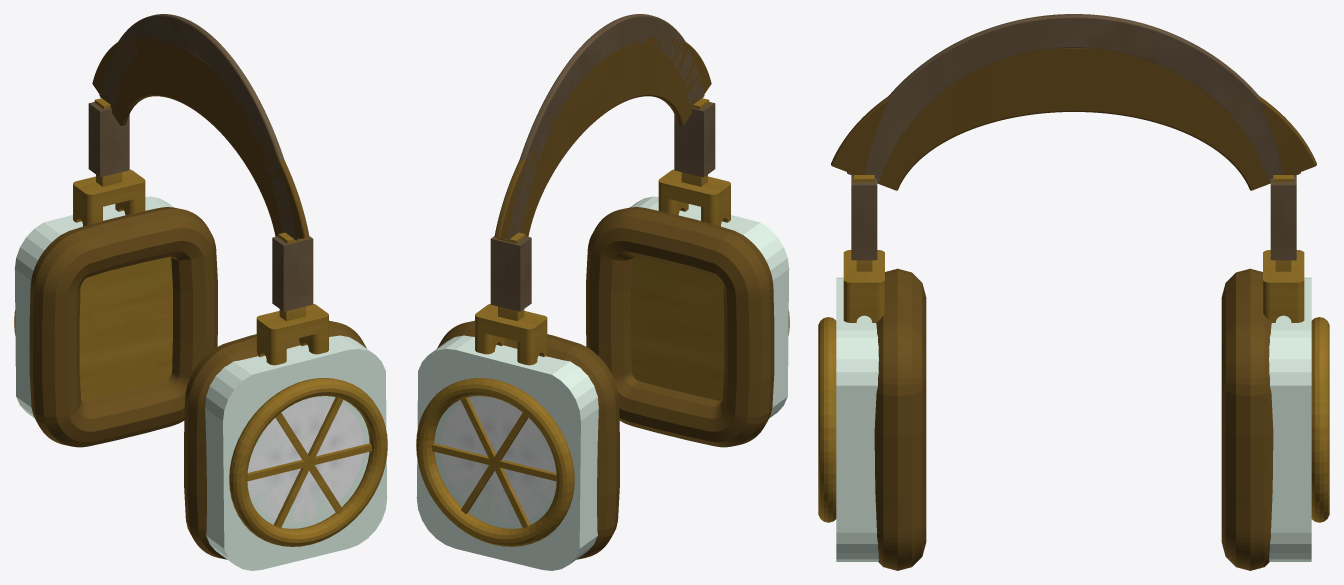
File: Music_Headphone__0377.glb
3 renders of one model, left to right at view 1: azimuth 30°, elevation 25°; view 2: azimuth 150°, elevation 25°; view 3: azimuth 270°, elevation 25°, orthographic. The views are drawn at different scales.
Parts seen in each view (by area): view 1: left_cup::left_cup_pad, right_cup::right_cup_shell, left_cup::left_cup_cap, suspension_strap::strap_body, right_cup::right_cup_ring, right_cup::right_cup_driver, band::arch_frame, right_cup::right_cup_pad, left_cup::left_cup_shell, right_cup::right_cup_bars, right_yoke::right_yoke_body, band::housing_r (+2 smaller); view 2: right_cup::right_cup_pad, left_cup::left_cup_shell, right_cup::right_cup_cap, suspension_strap::strap_body, left_cup::left_cup_ring, left_cup::left_cup_driver, band::arch_frame, left_cup::left_cup_pad, right_cup::right_cup_shell, left_cup::left_cup_bars, left_yoke::left_yoke_body, band::housing_l (+2 smaller); view 3: suspension_strap::strap_body, band::arch_frame, left_cup::left_cup_pad, right_cup::right_cup_pad, right_cup::right_cup_shell, left_cup::left_cup_shell, left_cup::left_cup_ring, right_cup::right_cup_ring, left_yoke::left_yoke_body, right_yoke::right_yoke_body, band::housing_l, band::housing_r.
Boxes of the visible parts, x1,y1,x2,y2 form: left_cup::left_cup_pad: (29,207,217,447); right_cup::right_cup_shell: (205,335,387,570); left_cup::left_cup_cap: (79,256,172,400); suspension_strap::strap_body: (92,36,309,238); right_cup::right_cup_ring: (229,378,387,546); right_cup::right_cup_driver: (247,397,363,522); band::arch_frame: (99,14,302,240); right_cup::right_cup_pad: (184,320,366,559); left_cup::left_cup_shell: (14,196,173,418); right_cup::right_cup_bars: (247,397,371,527); right_yoke::right_yoke_body: (256,304,328,365); band::housing_r: (272,236,313,311); right_cup::right_cup_pad: (586,207,774,447); left_cup::left_cup_shell: (416,335,598,570); right_cup::right_cup_cap: (631,256,724,400); suspension_strap::strap_body: (494,36,711,238); left_cup::left_cup_ring: (416,378,574,546); left_cup::left_cup_driver: (440,397,556,522); band::arch_frame: (501,14,704,240); left_cup::left_cup_pad: (437,320,619,559); right_cup::right_cup_shell: (630,196,789,418); left_cup::left_cup_bars: (432,397,556,527); left_yoke::left_yoke_body: (475,304,547,365); band::housing_l: (490,236,531,311); suspension_strap::strap_body: (831,48,1316,190); band::arch_frame: (847,14,1300,182); left_cup::left_cup_pad: (1221,268,1273,570); right_cup::right_cup_pad: (874,268,926,570); right_cup::right_cup_shell: (836,277,878,561); left_cup::left_cup_shell: (1269,277,1311,561); left_cup::left_cup_ring: (1311,317,1329,522); right_cup::right_cup_ring: (818,317,836,522); left_yoke::left_yoke_body: (1263,250,1304,322); right_yoke::right_yoke_body: (843,250,884,322); band::housing_l: (1270,175,1296,260); band::housing_r: (851,175,877,260).
Bounding box in the file's own units: 0.0923 × 0.2249 × 0.1971.
Materials: 5 (4 with a texture image).
